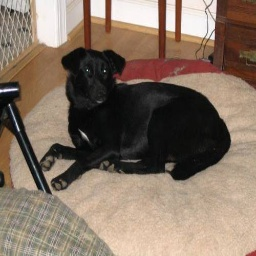dog: (35, 44, 232, 202)
